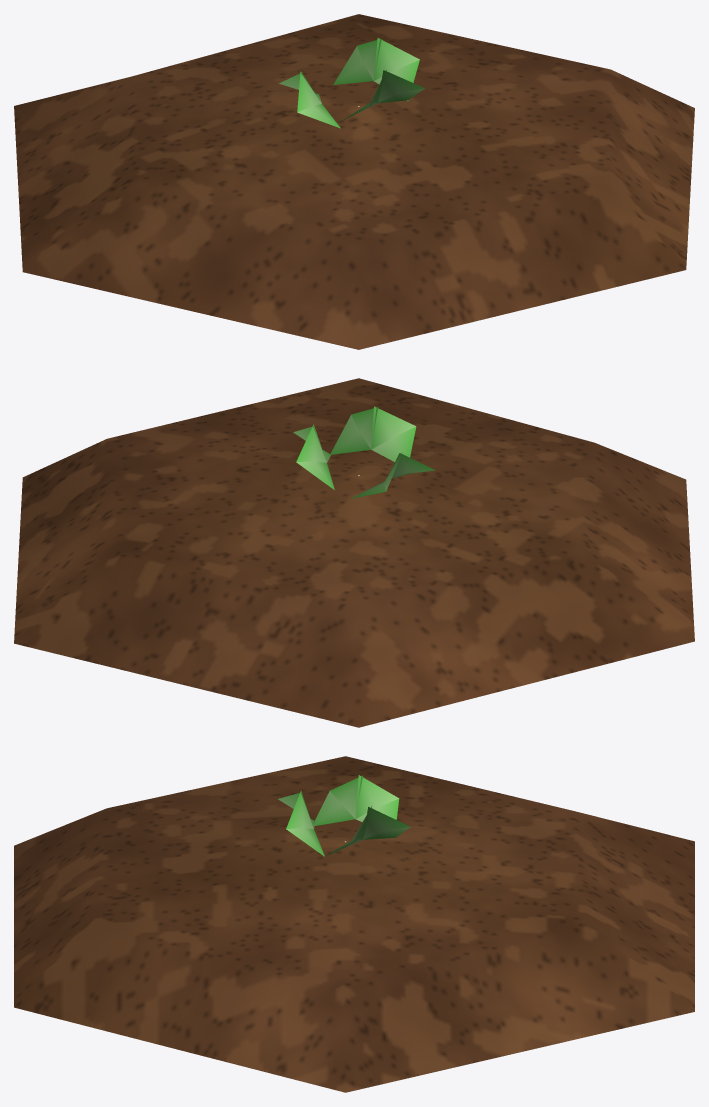
File: plant-carrot-1-far.glb
3 renders of one model, top to bottom at view 1: azimuth 30°, elevation 25°; view 2: azimuth 150°, elevation 25°; view 3: azimuth 270°, elevation 25°, orthographic.
Visible parts, largest first — view 1: plant-carrot-1-far; view 2: plant-carrot-1-far; view 3: plant-carrot-1-far.
Part boxes in pixels (box(x1,y1,x2,y2)): plant-carrot-1-far: box(14, 14, 694, 349); plant-carrot-1-far: box(14, 378, 694, 727); plant-carrot-1-far: box(14, 756, 694, 1092).
Size of the model in its own units: 0.84 by 0.1621 by 0.7275.
2 materials, 1 textured.
